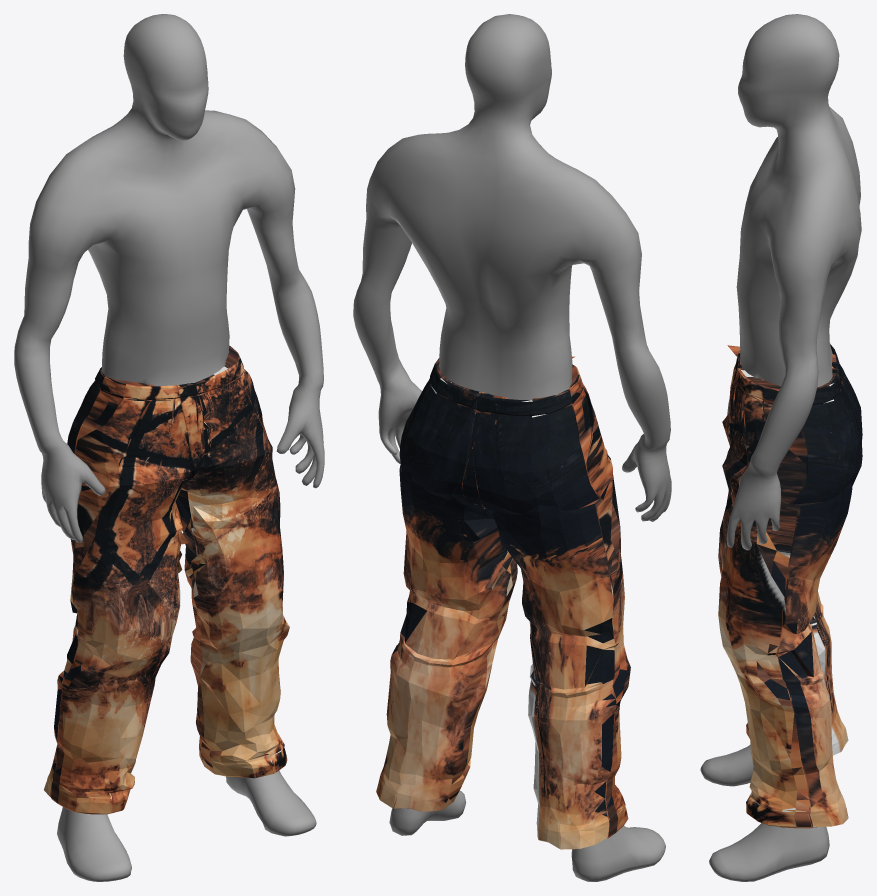
File: jeans72.obj
3 views of the same model, side by side, from view 1: azimuth 30°, elevation 25°; view 2: azimuth 150°, elevation 25°; view 3: azimuth 270°, elevation 25° (orthographic). The views are drawn at different scales.
Visible parts, largest first — view 1: Human_BaseMesh_Mesh, Object60.004; view 2: Object60.004, Human_BaseMesh_Mesh; view 3: Human_BaseMesh_Mesh, Object60.004.
Boxes of the visible parts, x1=… form: Human_BaseMesh_Mesh: x1=14, y1=14, x2=324, y2=881; Object60.004: x1=44, y1=345, x2=289, y2=814; Object60.004: x1=376, y1=356, x2=630, y2=849; Human_BaseMesh_Mesh: x1=353, y1=14, x2=671, y2=881; Human_BaseMesh_Mesh: x1=700, y1=14, x2=861, y2=881; Object60.004: x1=718, y1=343, x2=862, y2=828.
Size of the model in its own units: 6.14 by 16.22 by 2.95.
3 materials, 1 textured.
